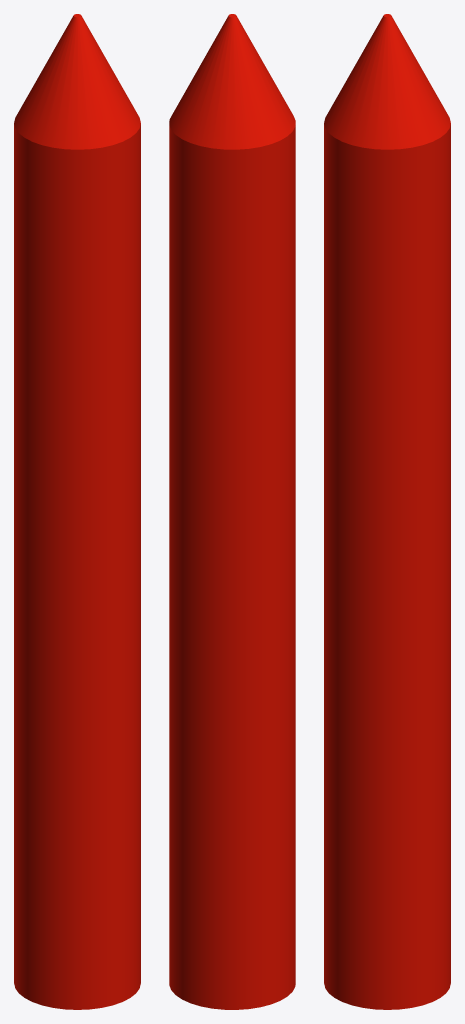
The model's file is Stifft.fbx.
3 views of the same model, side by side, from view 1: azimuth 90°, elevation 25°; view 2: azimuth 150°, elevation 25°; view 3: azimuth 270°, elevation 25° (orthographic).
Parts seen in each view (by area): view 1: Cylinder; view 2: Cylinder; view 3: Cylinder.
Boxes of the visible parts, box(x1,y1,x2,y2) form: Cylinder: box(14, 14, 140, 1009); Cylinder: box(169, 14, 295, 1009); Cylinder: box(324, 14, 450, 1009).
Bounding box in the file's own units: 200 × 1683 × 200.
